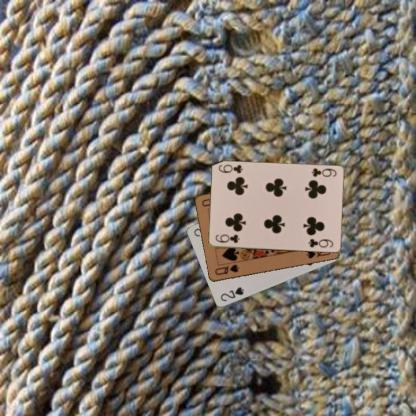2s: (218, 285, 245, 303)
6c: (308, 166, 338, 178), (213, 232, 240, 244)
Qs: (211, 262, 240, 276)
